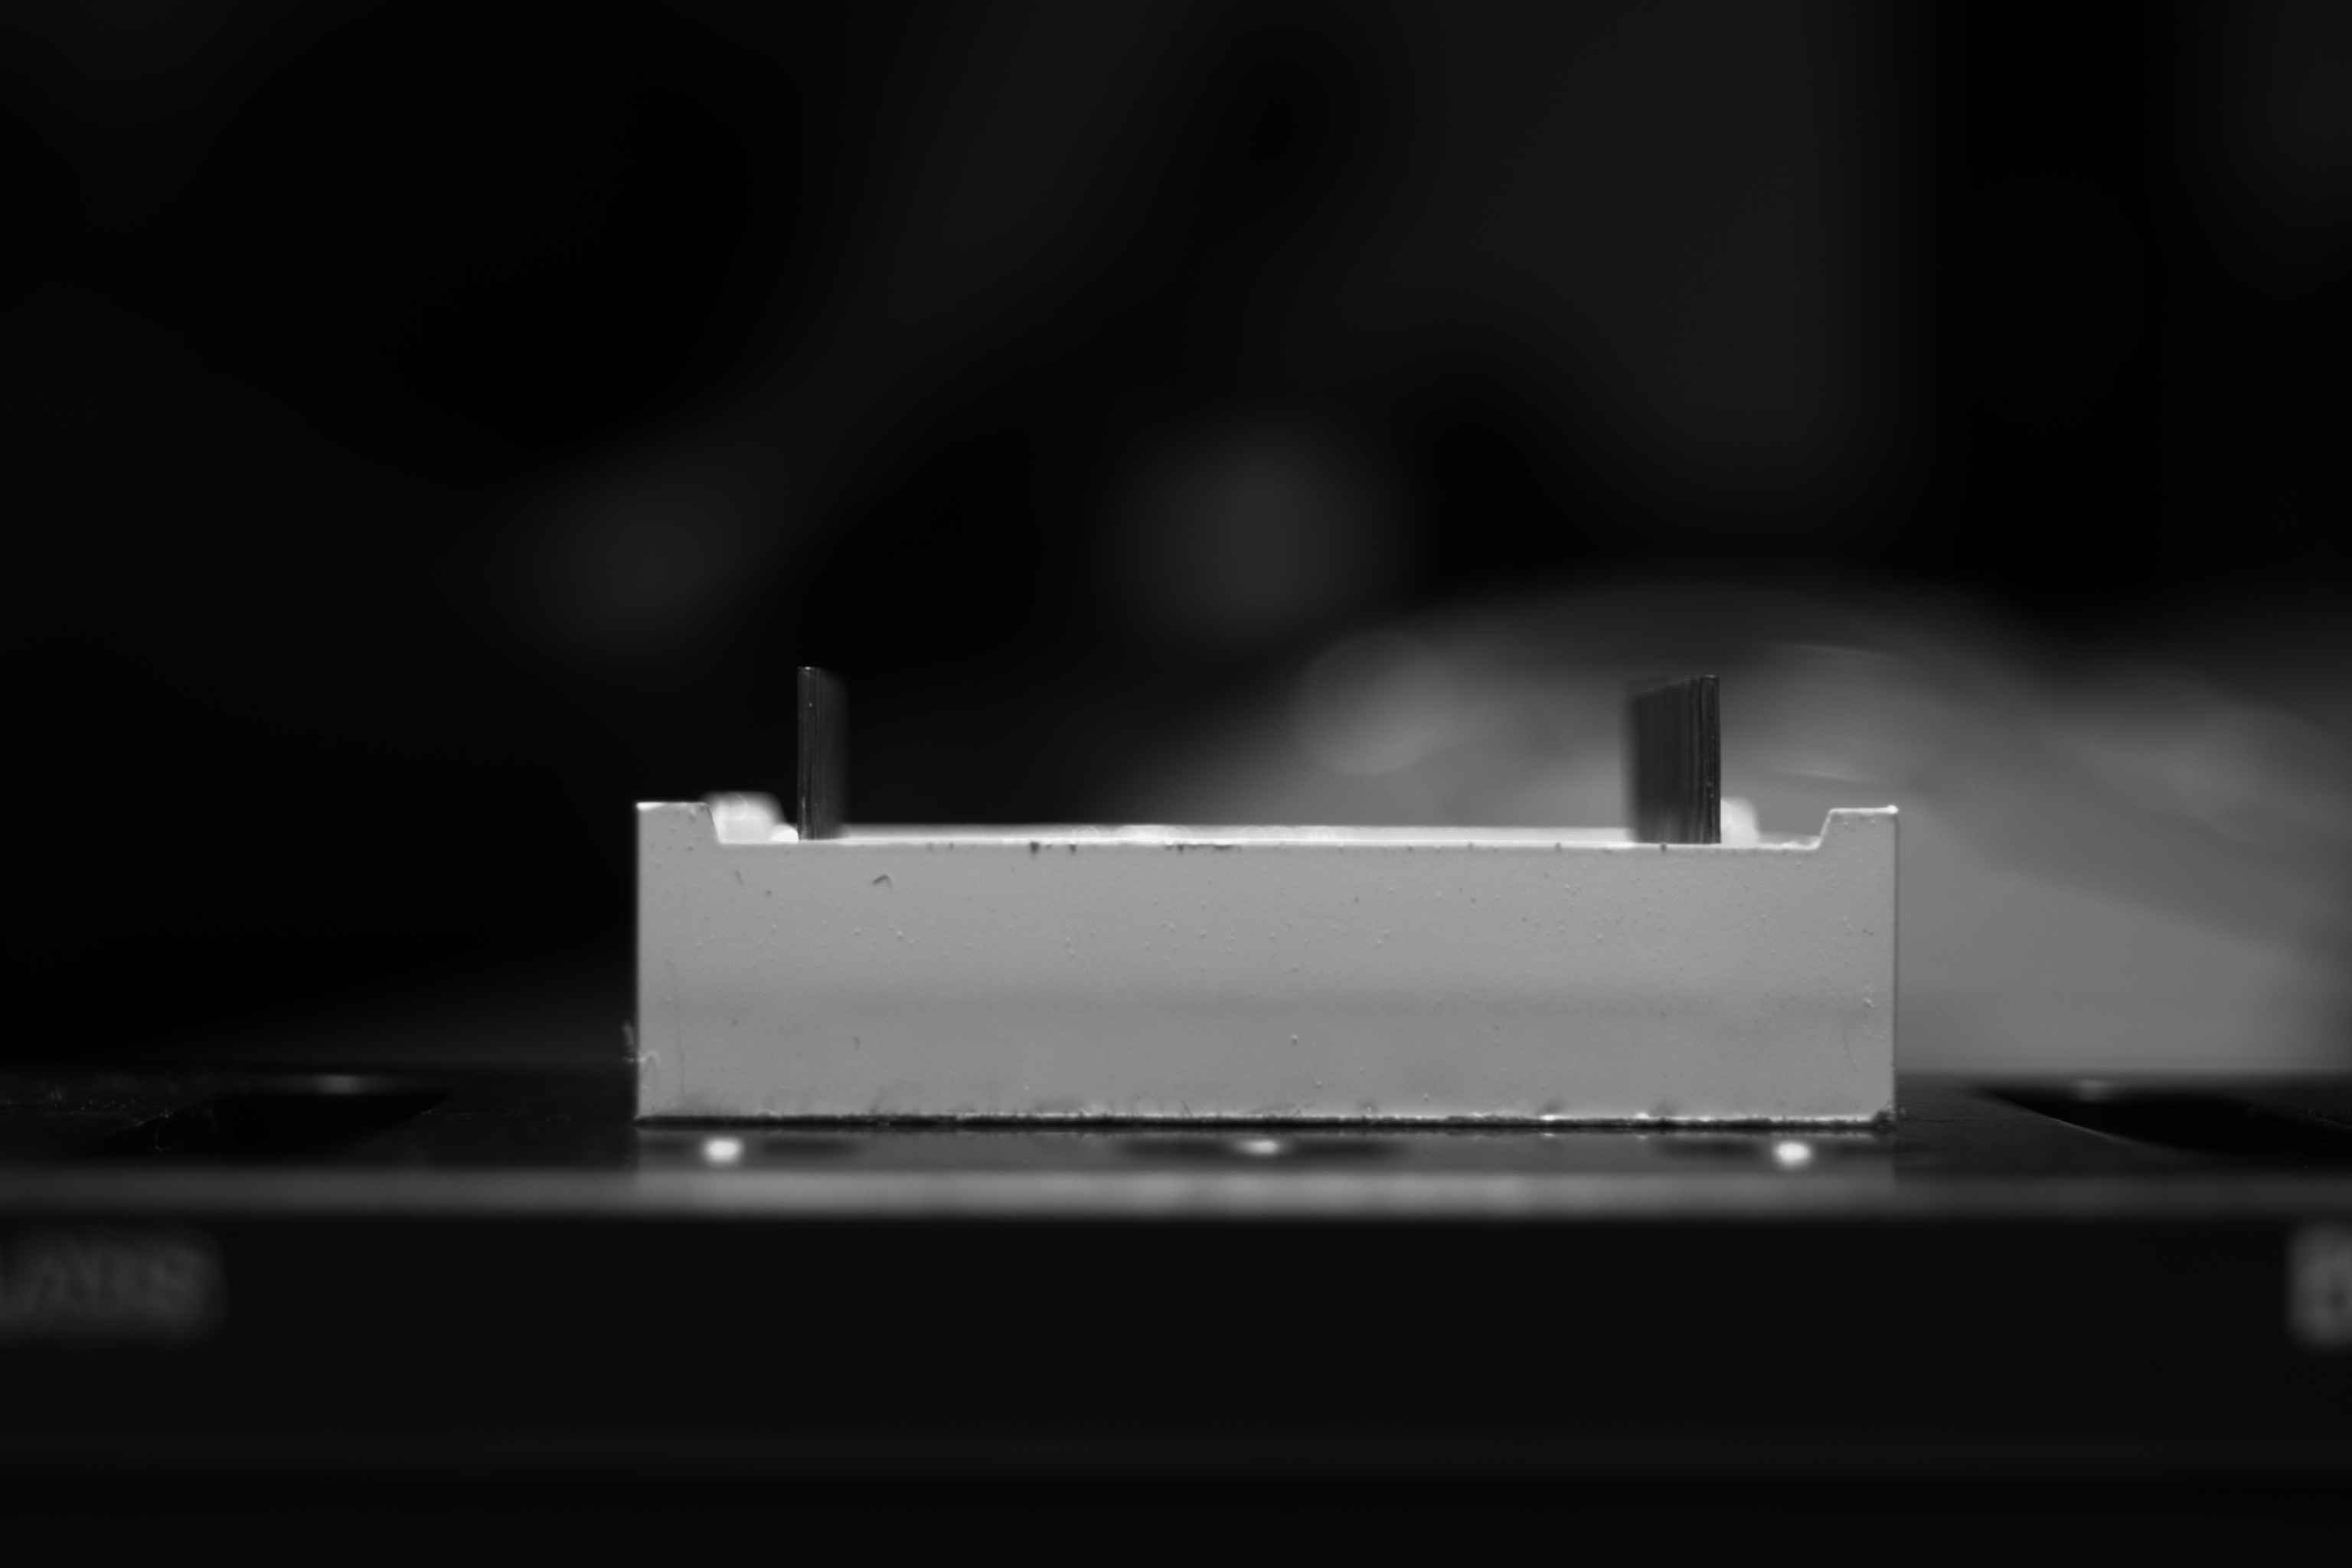Component: (630, 660, 1906, 1129)
